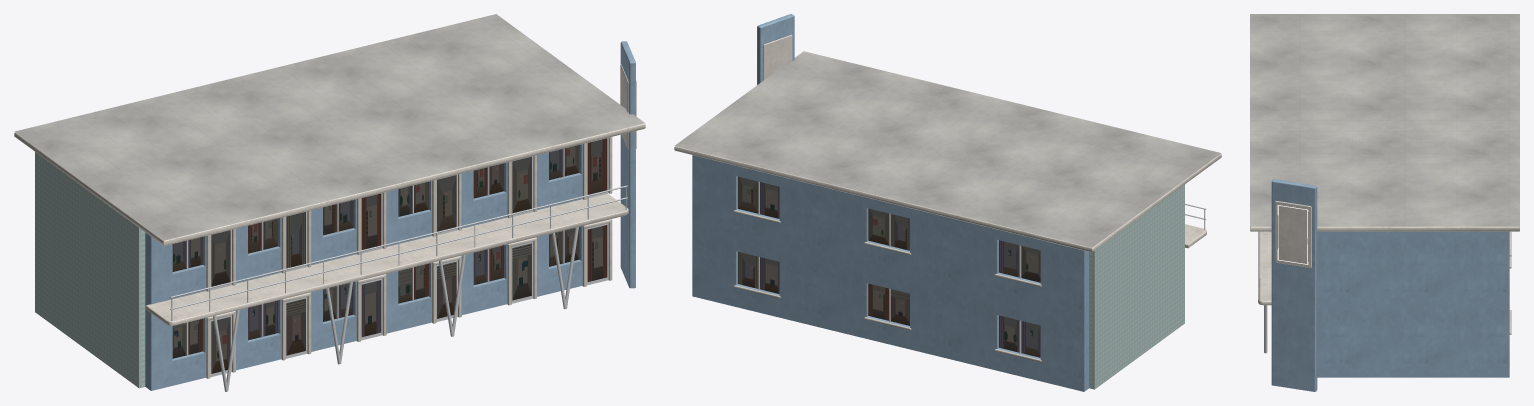
3 views of the same model, side by side, from view 1: azimuth 30°, elevation 25°; view 2: azimuth 150°, elevation 25°; view 3: azimuth 270°, elevation 25° (orthographic). The views are drawn at different scales.
Visible parts, largest first — view 1: bg_2_mesh; view 2: bg_2_mesh; view 3: bg_2_mesh.
Boxes of the visible parts, <box> form: bg_2_mesh: <box>14,14,645,391</box>; bg_2_mesh: <box>674,14,1221,391</box>; bg_2_mesh: <box>1250,14,1519,391</box>.
Size of the model in its own units: 19.9 by 8.61 by 10.3.
Materials: 7 (5 with a texture image).
